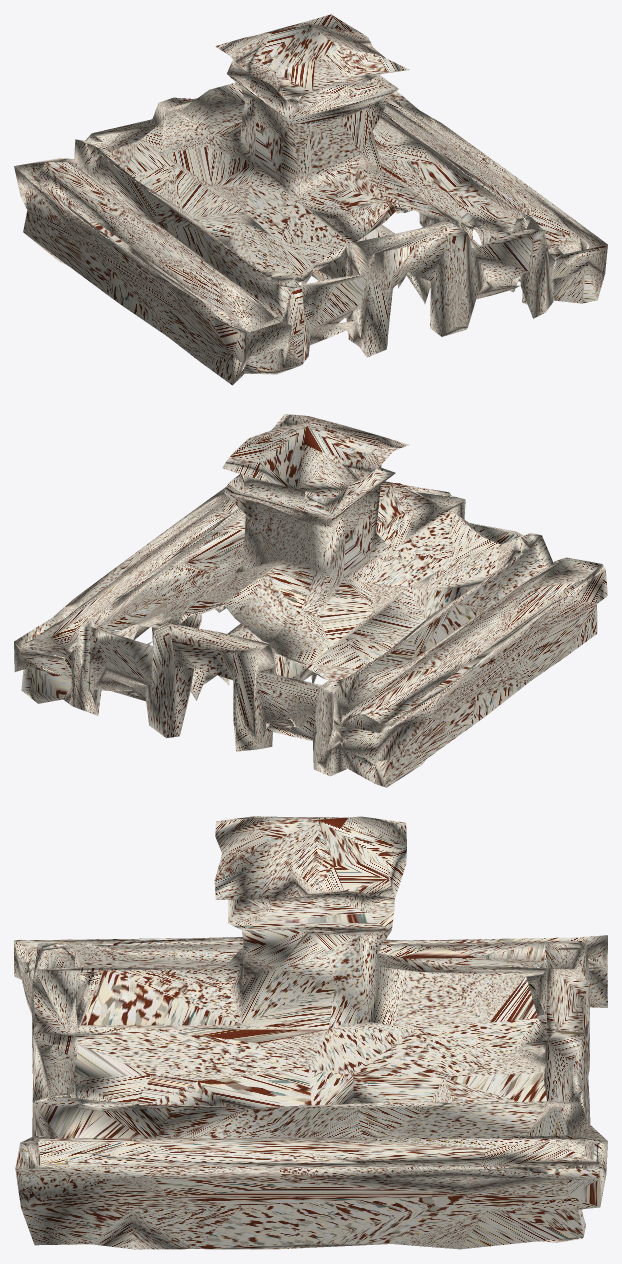
File: cho-ben-thanh.glb
The picture shows the model from 3 angles, top to bottom: view 1: azimuth 30°, elevation 25°; view 2: azimuth 150°, elevation 25°; view 3: azimuth 270°, elevation 25°; orthographic projection. The views are drawn at different scales.
Size of the model in its own units: 0.9194 by 0.5793 by 0.9917.
Materials: 1 (1 with a texture image).
